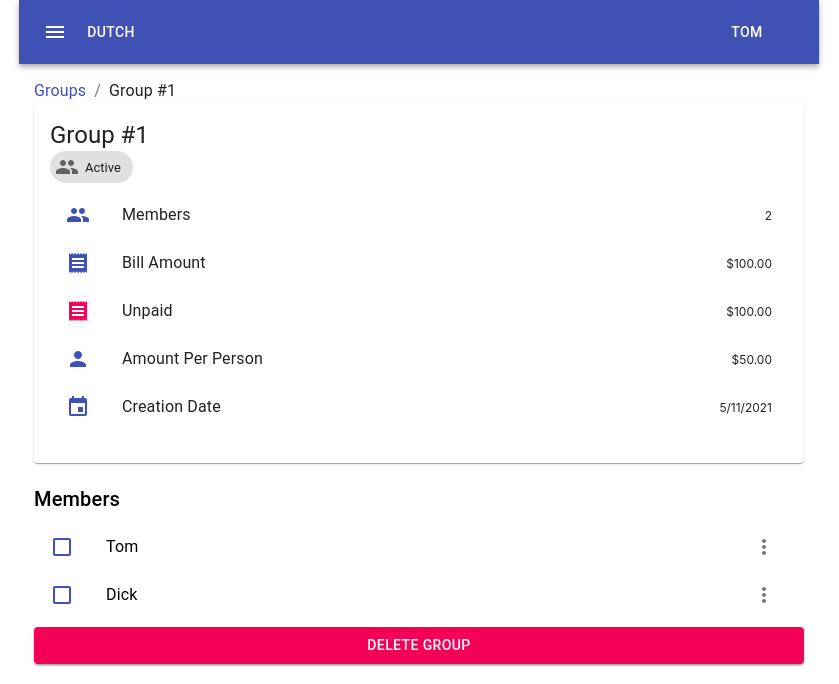
check paid/unpaid works
Expected: the text with test id "amount" shows "$100", [726,256,772,270]
Click the 1st icon with test id "paid-icon": (62, 547) [50,535,74,559]
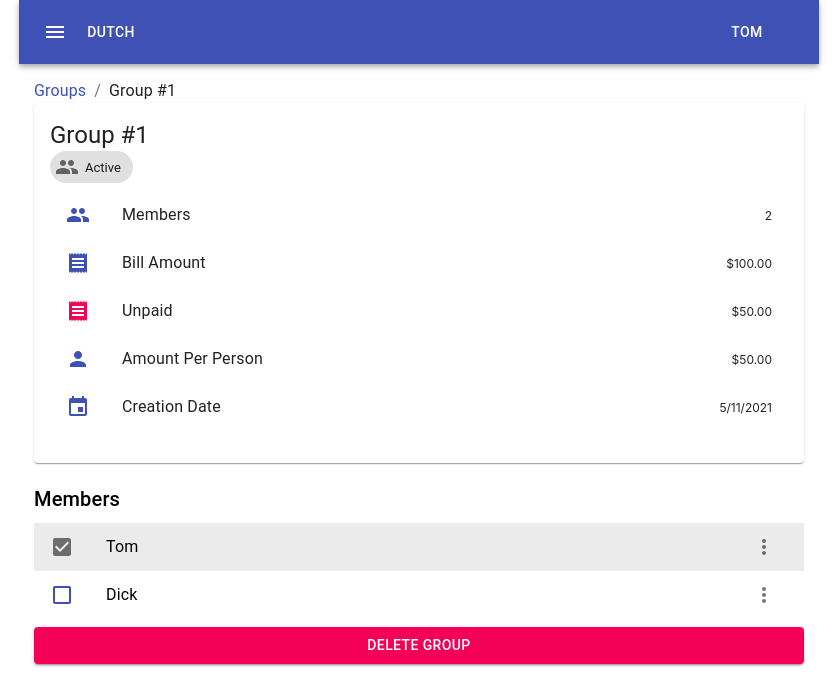
Click the 2nd icon with test id "paid-icon": (62, 595) [50,583,74,607]
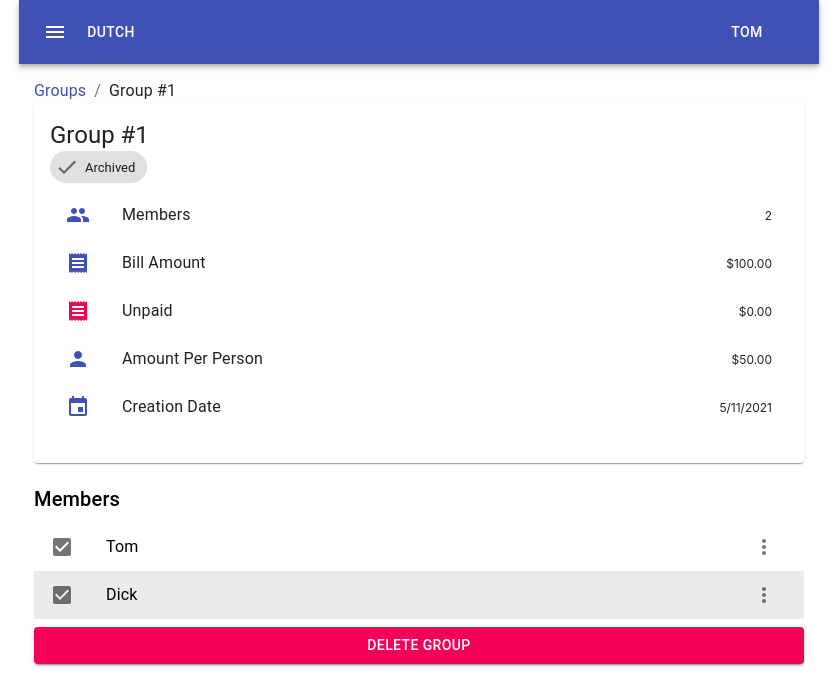
Expected: the text with test id "unpaid" reads "$0.00", [739,304,772,318]
Expected: the text with test id "unpaid" shows "$0", [739,304,772,318]
